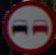No overtake: (2, 3, 50, 46)
